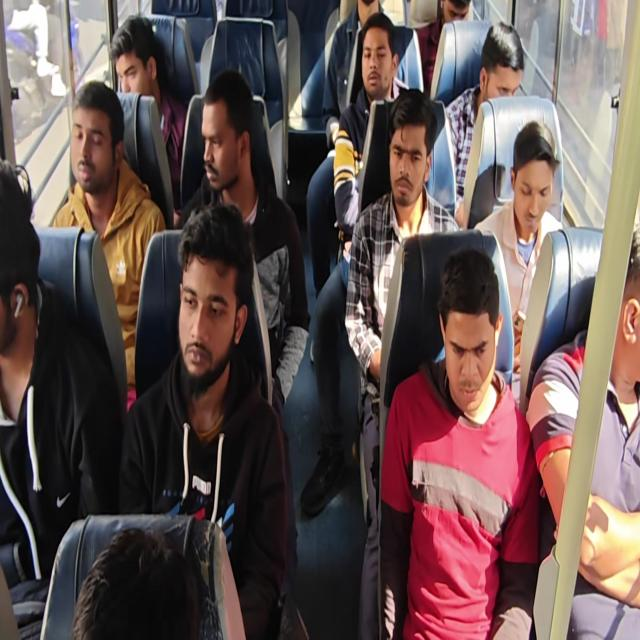person: (70, 519, 204, 640), (177, 192, 241, 420), (427, 246, 503, 428), (0, 154, 48, 382), (197, 60, 259, 199), (604, 194, 640, 422), (66, 82, 128, 202), (386, 80, 438, 211), (509, 112, 560, 240), (107, 18, 167, 108), (481, 23, 529, 119), (344, 21, 401, 94)
